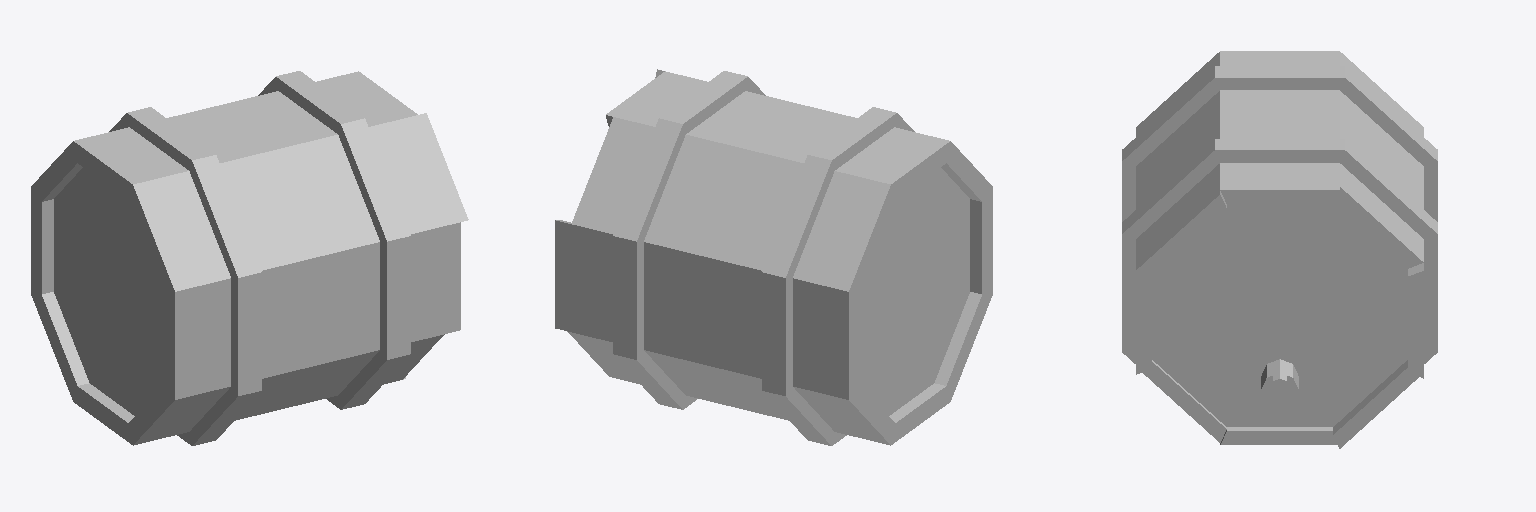
The model's file is barrel.obj.
The picture shows the model from 3 angles: view 1: azimuth 30°, elevation 25°; view 2: azimuth 150°, elevation 25°; view 3: azimuth 270°, elevation 25°; orthographic projection.
Visible parts, largest first — view 1: barrel; view 2: barrel; view 3: barrel.
Boxes of the visible parts, box(x1,y1,x2,y2) form: barrel: box(31, 71, 468, 445); barrel: box(555, 69, 992, 445); barrel: box(1122, 51, 1437, 448).
Size of the model in its own units: 0.76 by 0.6789 by 0.6789.